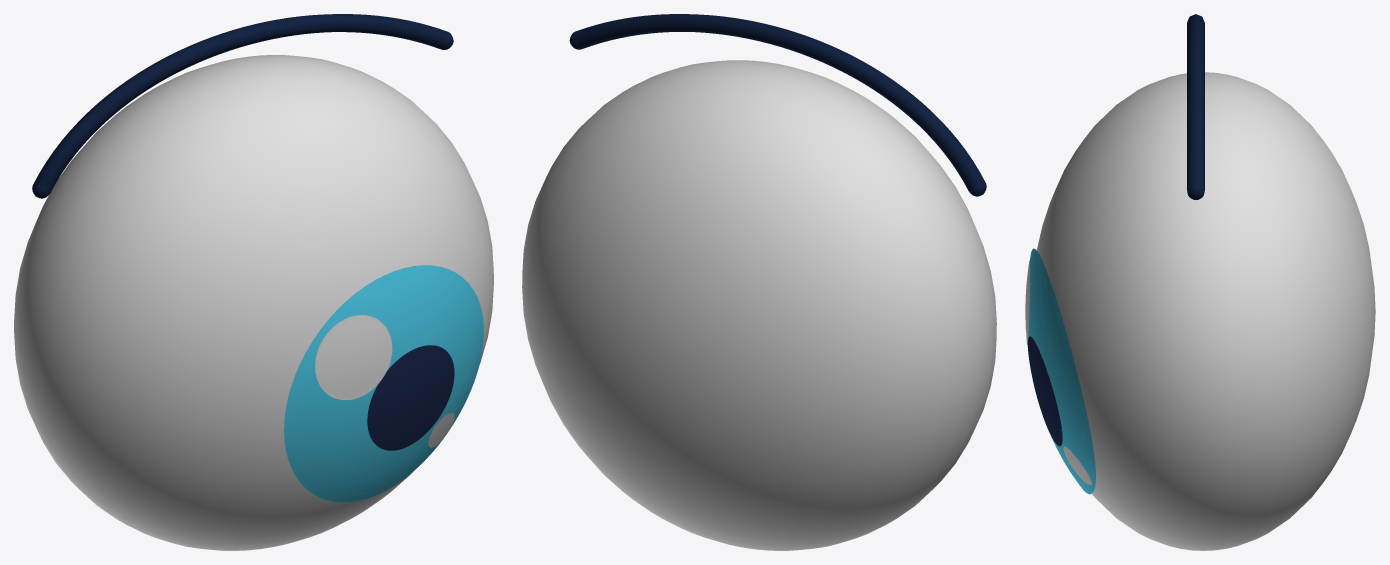
The model's file is one.glb.
3 views of the same model, side by side, from view 1: azimuth 30°, elevation 25°; view 2: azimuth 150°, elevation 25°; view 3: azimuth 270°, elevation 25° (orthographic). The views are drawn at different scales.
Visible parts, largest first — view 1: one_20_solid, one_21_mark, one_25_line, one_22_mark, one_23_mark; view 2: one_20_solid, one_25_line; view 3: one_20_solid, one_21_mark, one_25_line, one_22_mark.
Boxes of the visible parts, x1,y1,x2,y2 form: one_20_solid: (14, 55, 493, 550); one_21_mark: (284, 265, 483, 502); one_25_line: (32, 14, 453, 198); one_22_mark: (367, 345, 454, 450); one_23_mark: (315, 315, 392, 399); one_20_solid: (522, 60, 996, 550); one_25_line: (569, 14, 986, 196); one_20_solid: (1037, 72, 1375, 550); one_21_mark: (1027, 248, 1095, 494); one_25_line: (1187, 14, 1204, 199); one_22_mark: (1027, 336, 1062, 446).
Size of the model in its own units: 0.2976 by 0.3273 by 0.2165.
